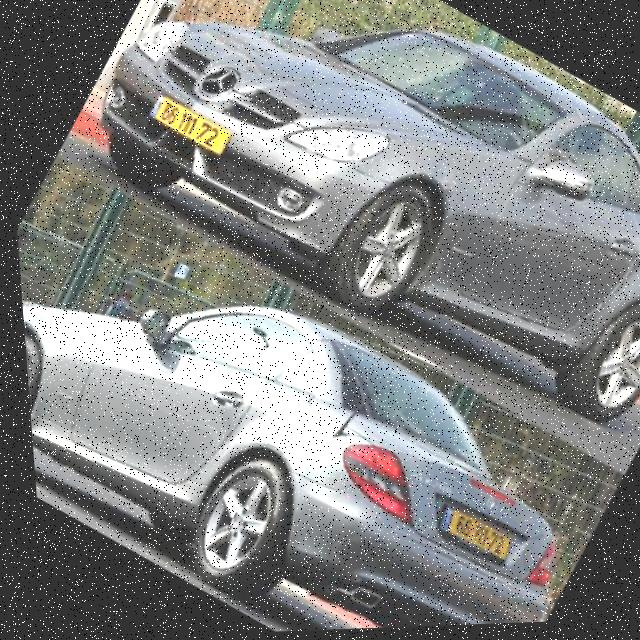license_plate: (142, 88, 234, 162), (422, 500, 510, 570)
